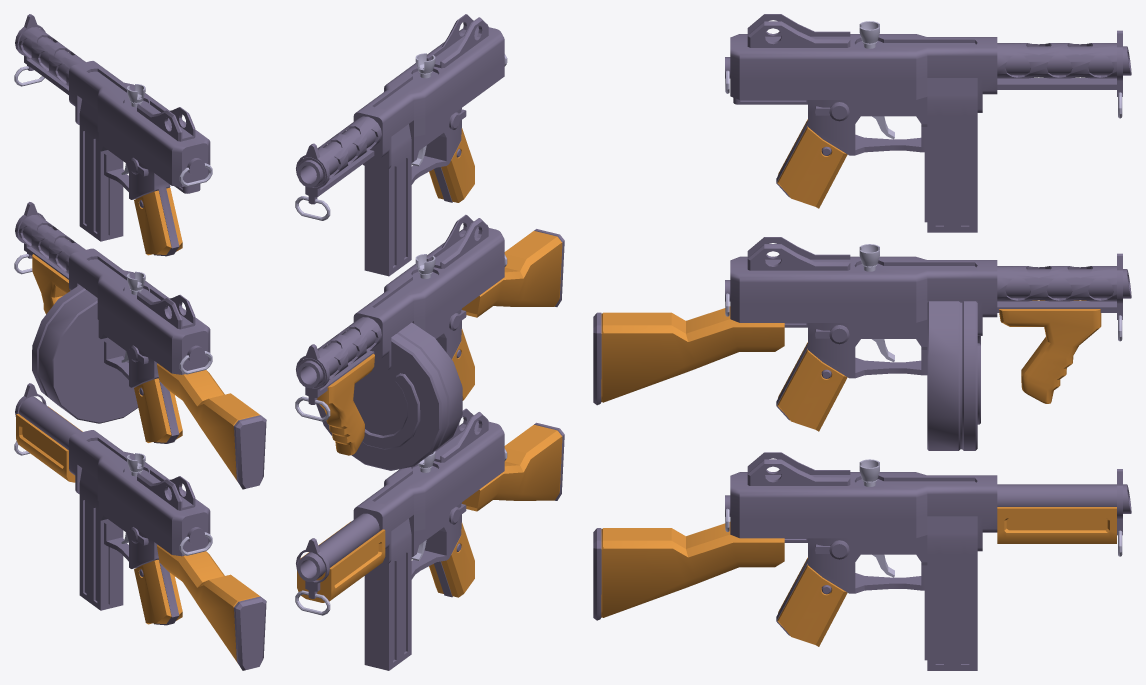
File: TommyGuns.fbx
3 renders of one model, left to right at view 1: azimuth 30°, elevation 25°; view 2: azimuth 150°, elevation 25°; view 3: azimuth 270°, elevation 25°, orthographic. The views are drawn at different scales.
Visible parts, largest first — view 1: Cylinder.034, Cube.011, Cube.020, Cube.019, Cube.026, Cube.018, Cube.012, Cube.025, Cube.028, Cube.013, Cube.021, Cube.031 (+14 smaller); view 2: Cylinder.034, Cube.020, Cube.019, Cube.011, Cube.025, Cube.012, Cube.018, Cube.026, Cube.027, Cube.017, Cylinder.017, Cube.013 (+15 smaller); view 3: Cube.011, Cube.019, Cube.020, Cube.026, Cube.018, Cube.025, Cube.012, Cylinder.034, Cube.027, Cube.028, Cube.013, Cube.021 (+14 smaller).
Boxes of the visible parts, x1,y1,x2,y2 form: Cylinder.034: (32,285,138,423); Cube.011: (69,430,210,556); Cube.020: (69,61,210,186); Cube.019: (69,248,210,374); Cube.026: (157,363,266,489); Cube.018: (157,544,266,670); Cube.012: (79,468,123,610); Cube.025: (79,99,123,241); Cube.028: (98,132,200,256); Cube.013: (98,501,179,625); Cube.021: (98,320,179,443); Cube.031: (134,187,182,255); Cylinder.034: (316,322,462,470); Cube.020: (353,26,504,170); Cube.019: (353,227,504,371); Cube.011: (353,420,504,565); Cube.025: (364,124,411,276); Cube.012: (364,518,411,670); Cube.018: (462,422,564,511); Cube.026: (462,229,564,317); Cube.027: (317,354,374,455); Cube.017: (297,521,385,602); Cylinder.017: (297,513,379,581); Cube.013: (411,502,461,597); Cube.011: (730,472,997,551); Cube.019: (730,256,997,335); Cube.020: (730,34,997,112); Cube.026: (593,306,784,405); Cube.018: (593,522,784,620); Cube.025: (924,78,977,232); Cube.012: (924,516,977,670); Cylinder.034: (927,301,980,450); Cube.027: (999,300,1101,403); Cube.028: (733,97,927,197); Cube.013: (776,535,927,635); Cube.021: (776,320,927,420).
Bounding box in the file's own units: 278 × 1212 × 915.
